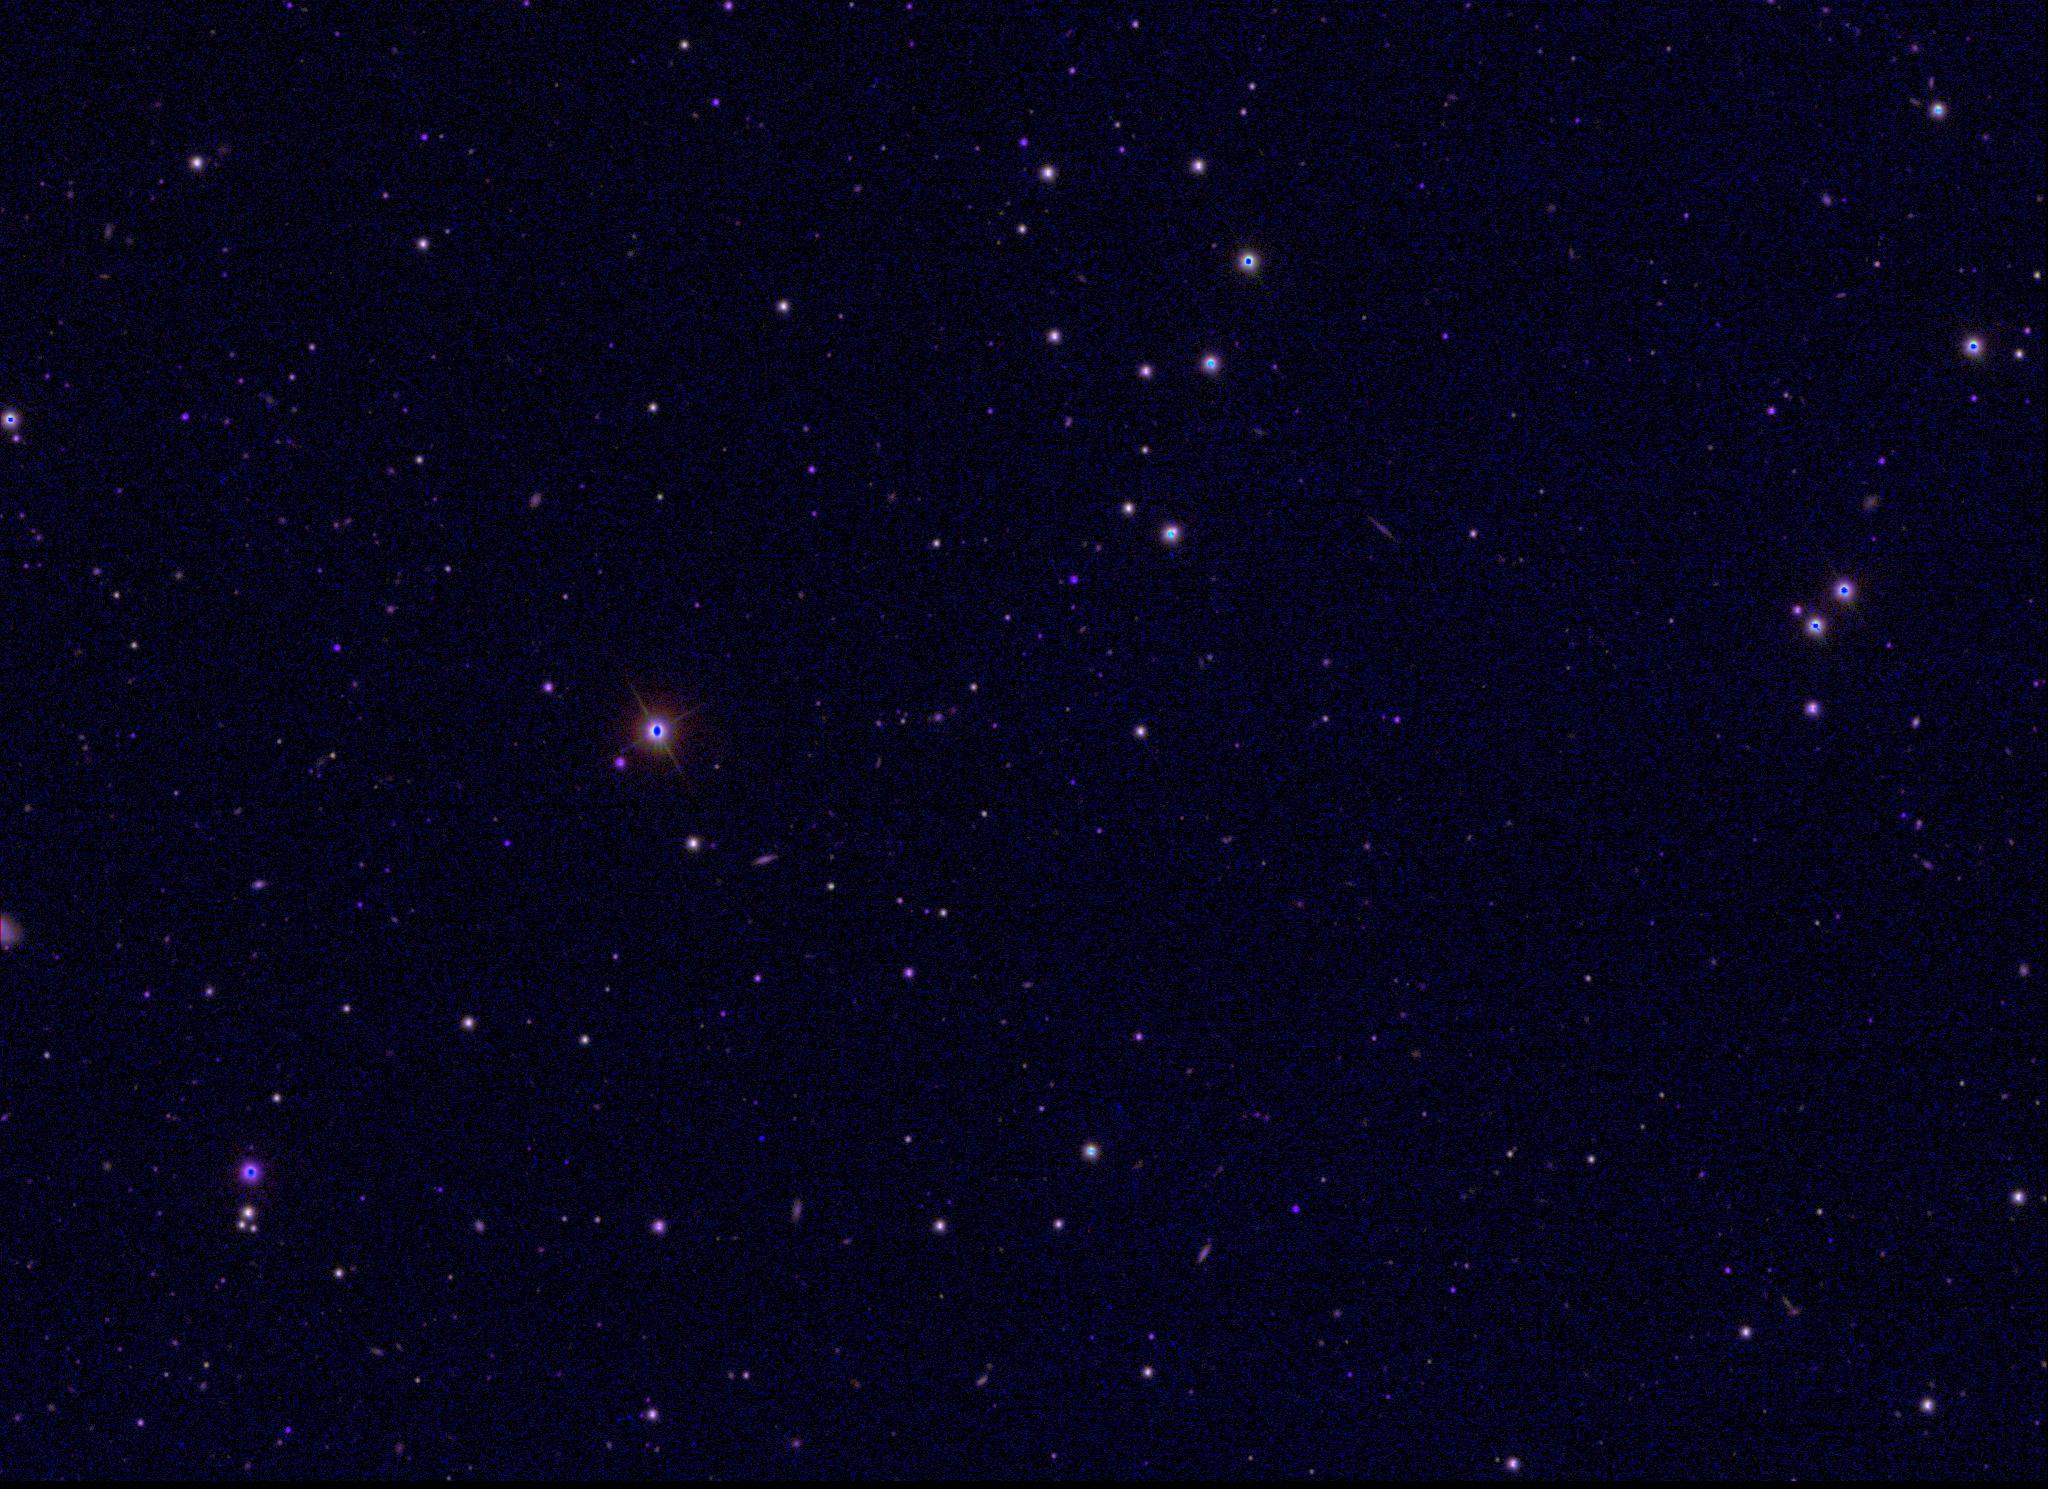L: (754, 1133, 768, 1145)
